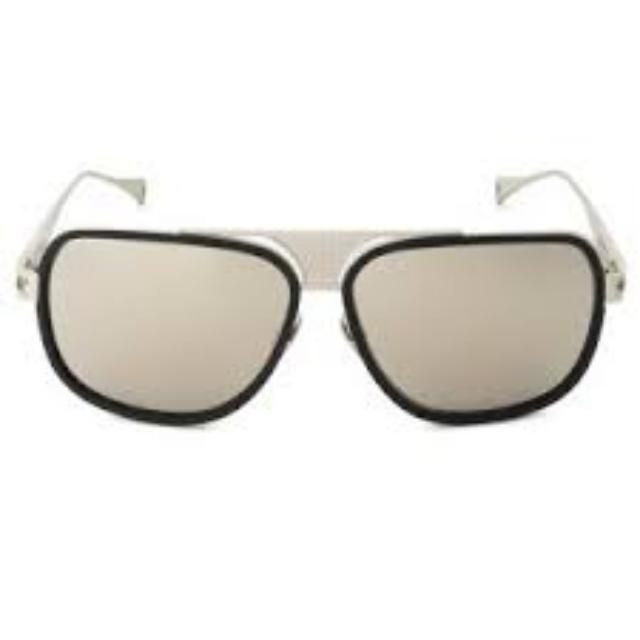glasses: (16, 168, 626, 430)
